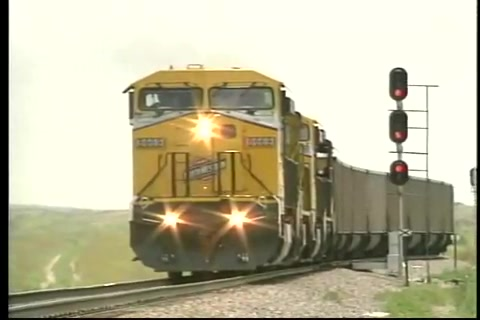train: (123, 63, 457, 282)
